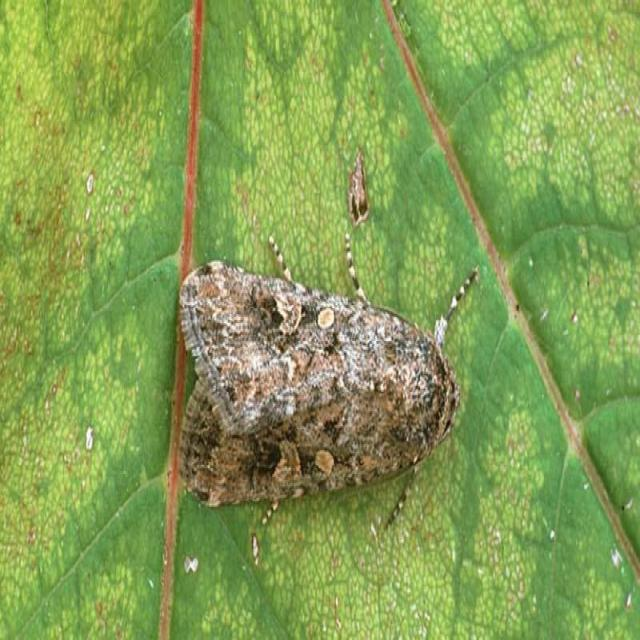BeetArmyWorm-Adult-: (174, 221, 478, 538)
